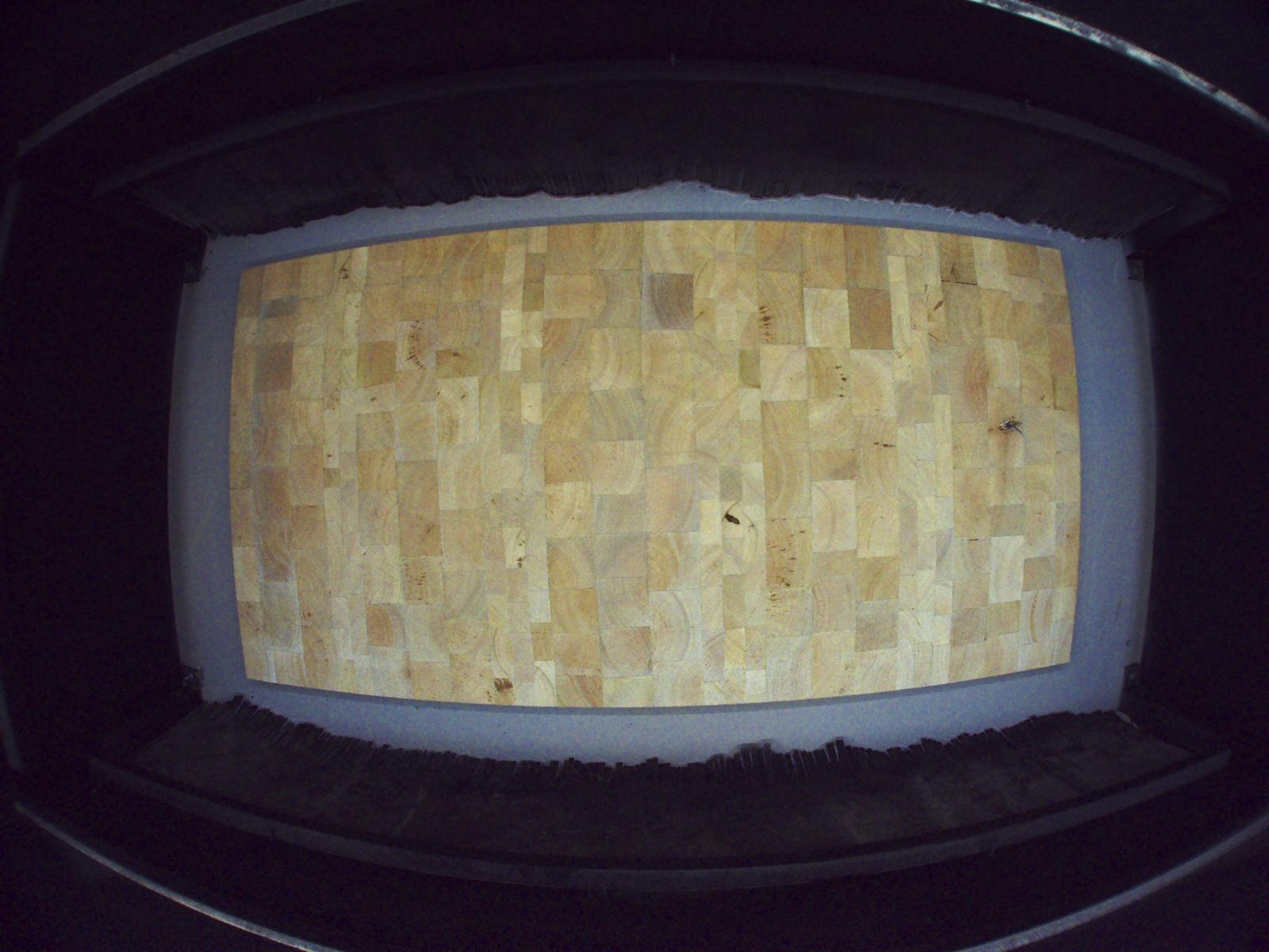nudillo: (997, 414, 1023, 435)
